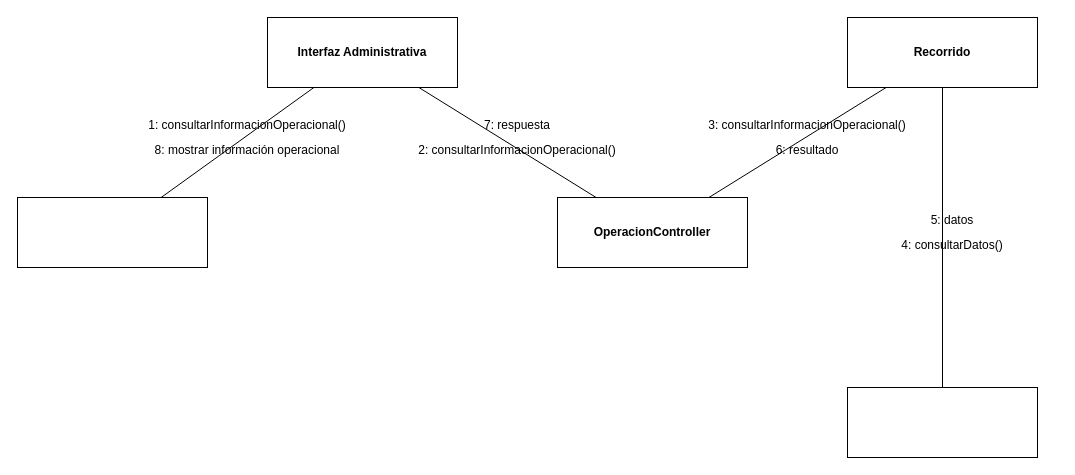
Some shapes in this 1075 by 475 pixel diagram are drawn without their labels. The shapes that lost their labels are listed below. From the top down, each one's centre as x and y in pixels, then its label:
At point (112, 232): "Administrador".
At point (942, 422): "Supabase/PostgreSQL".
